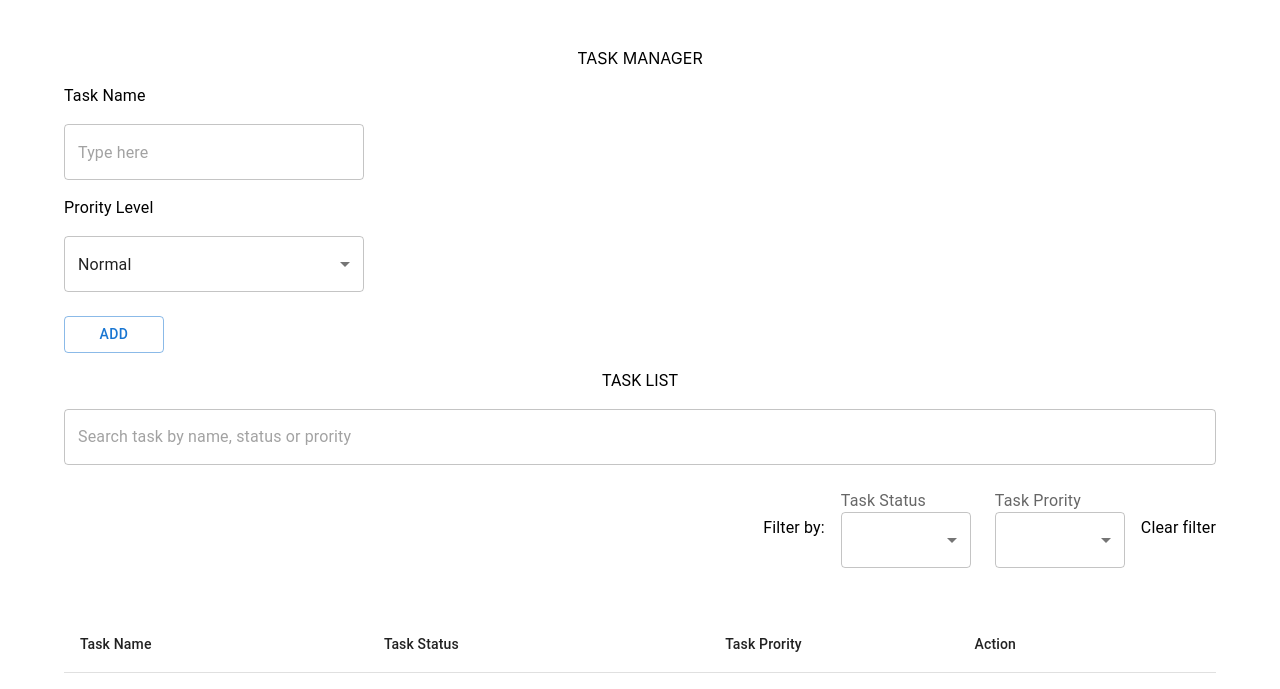
it: Test E2E task manager › Add task success and fail › test add task with blank task name
Click the submit button at [114, 335], box left=64, top=316, right=164, bottom=353
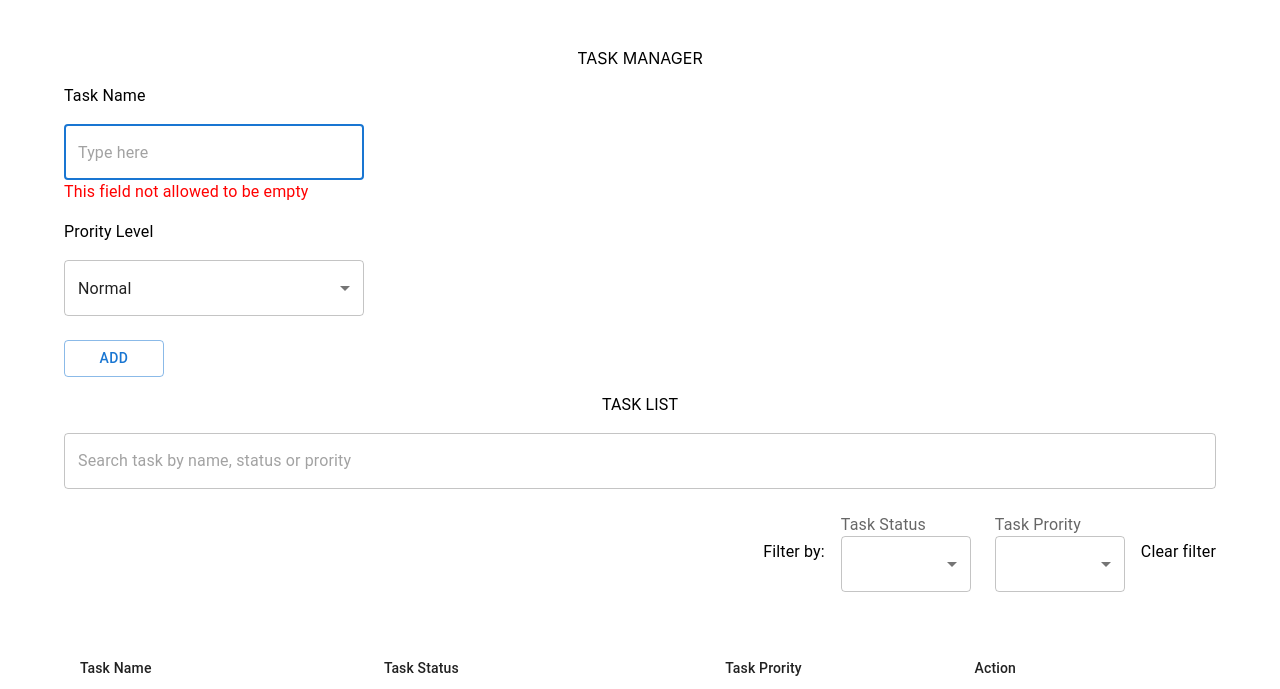
Now the text with class "errorMsg" reads "This field not allowed to be empty", box left=64, top=182, right=309, bottom=201
